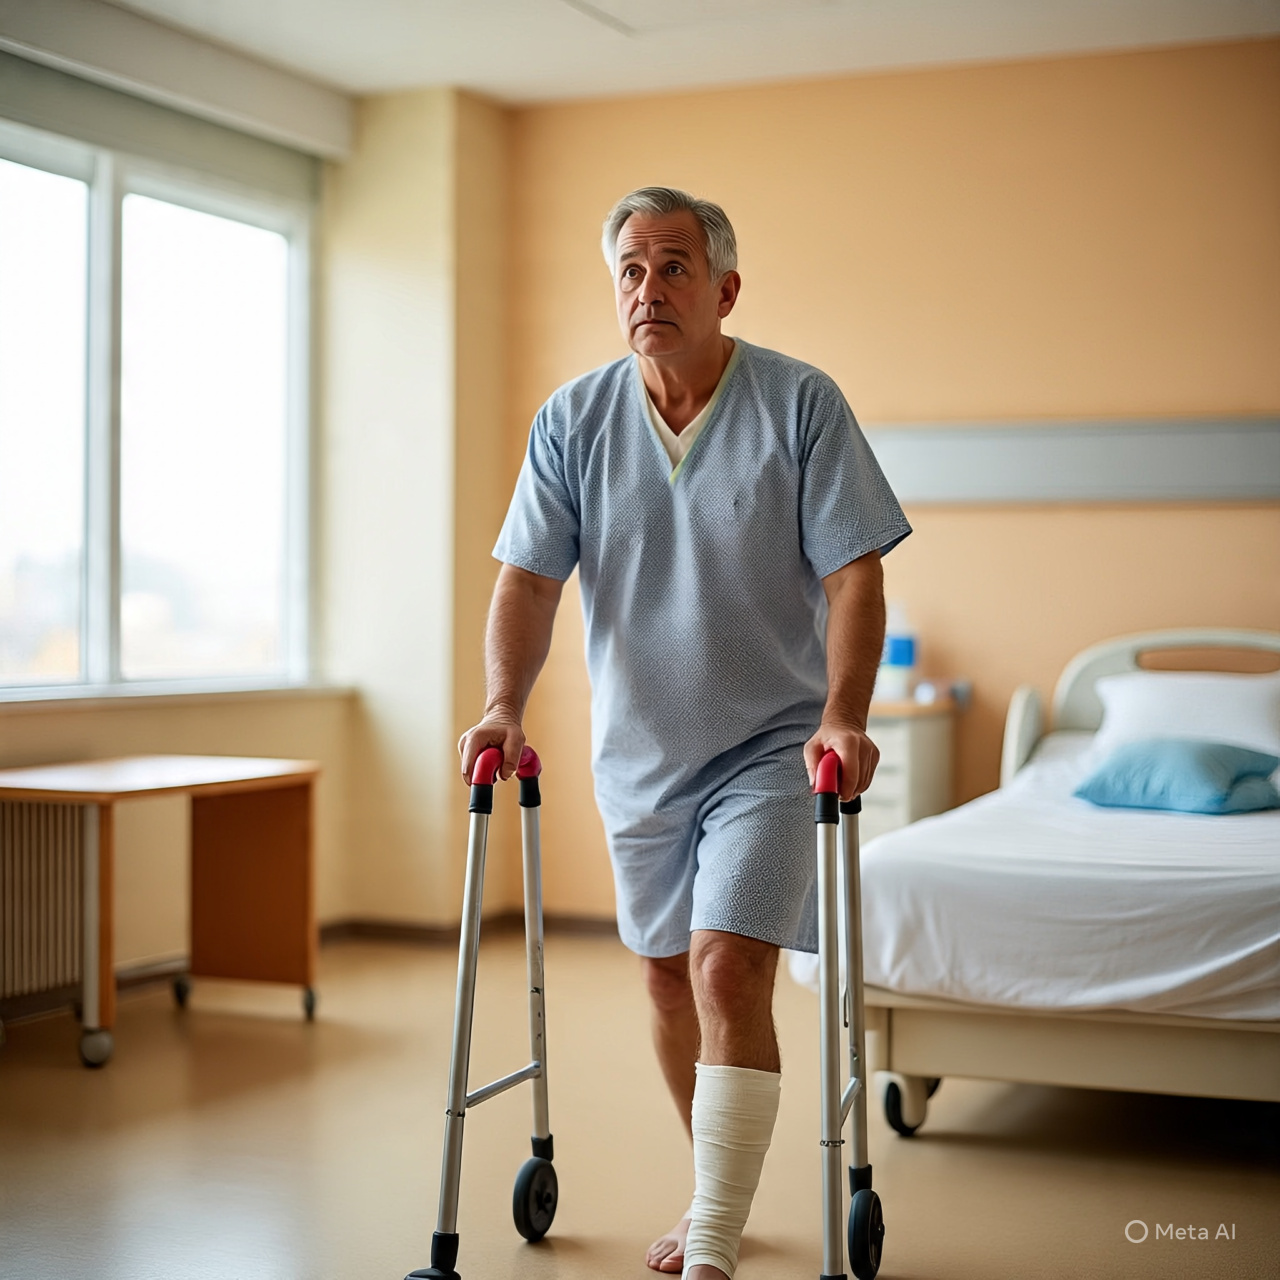walking: (285, 175, 990, 1280)
